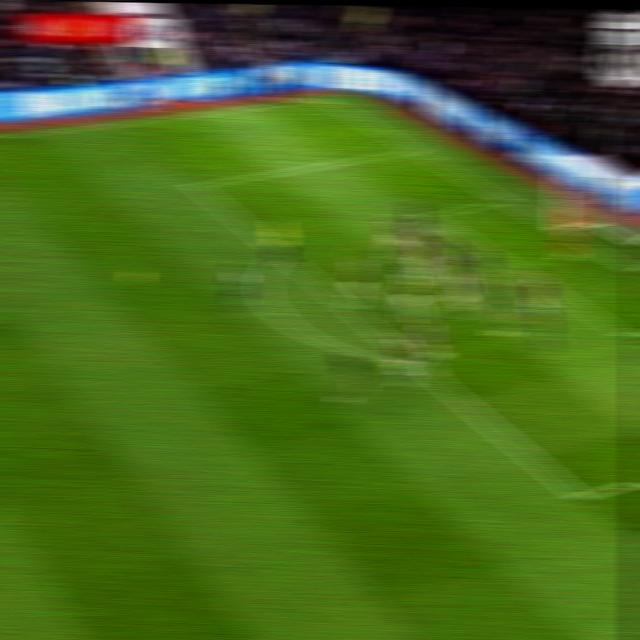bigarea_bottom_inner: (567, 484, 594, 513)
bigarea_top_inner: (183, 176, 212, 198)
bigarea_top_outter: (401, 142, 425, 160)
bottom_arc_area_intersection: (403, 355, 429, 371)
corner: (307, 95, 334, 104)
smallarea_bottom_inner: (613, 321, 640, 347)
smallarea_top_inner: (418, 206, 446, 228)
smallarea_top_outter: (493, 193, 514, 209)
